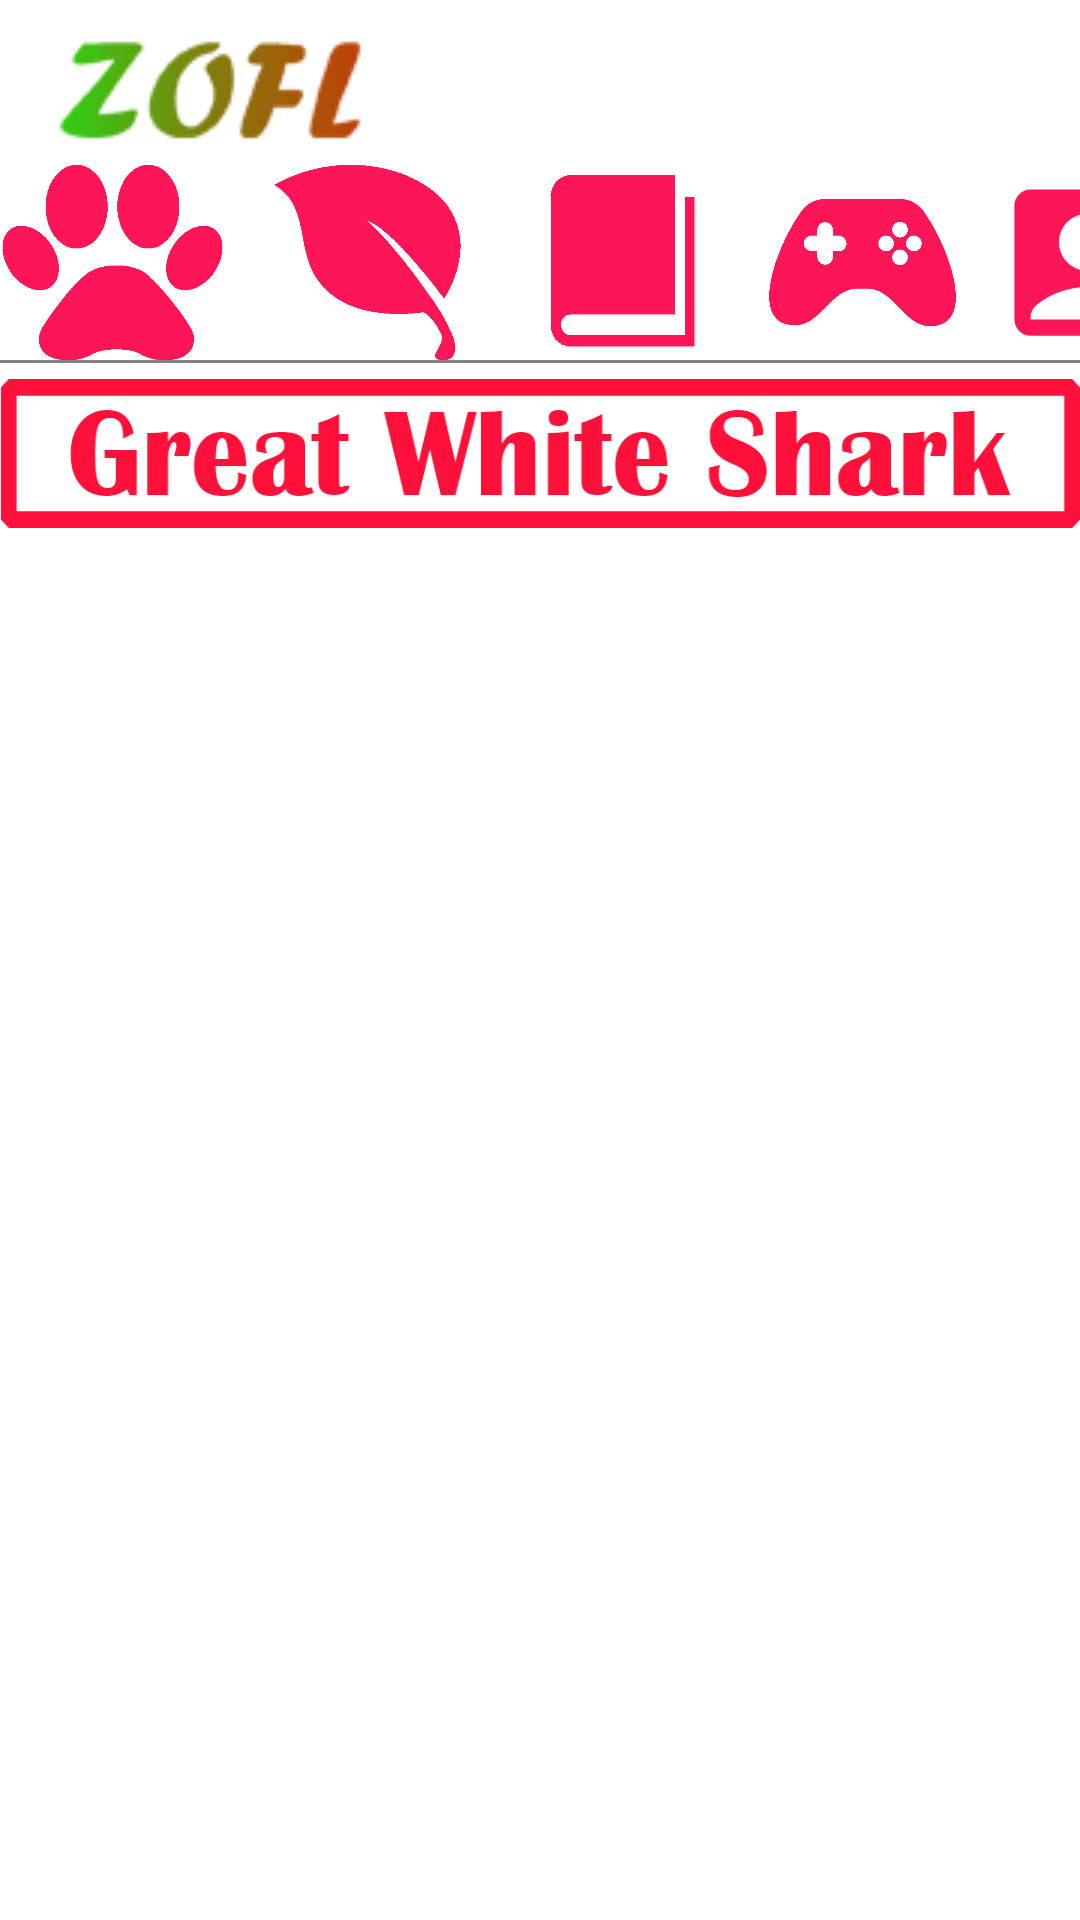

Screen size 1080px x 1920px. Icon name, then its box in pixels as rect(x1, y1, x2, y2):
bookred: rect(550, 175, 695, 347)
gamered: rect(769, 199, 956, 326)
leafred: rect(275, 165, 461, 360)
pawprintred: rect(2, 165, 223, 290)
